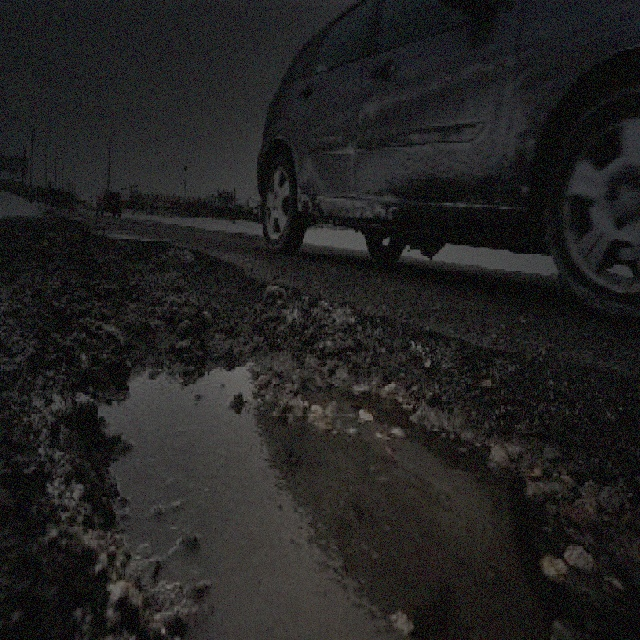pothole: (0, 224, 639, 638)
